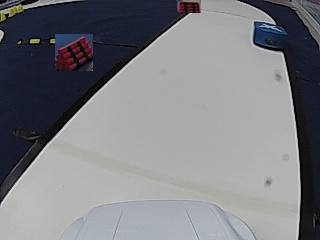prop: (253, 21, 287, 51)
